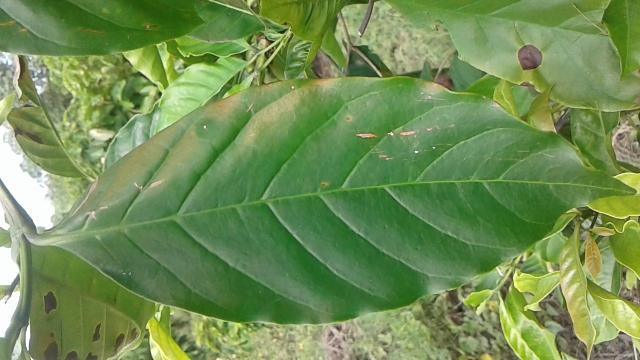rust_level_1: (50, 78, 634, 326)
